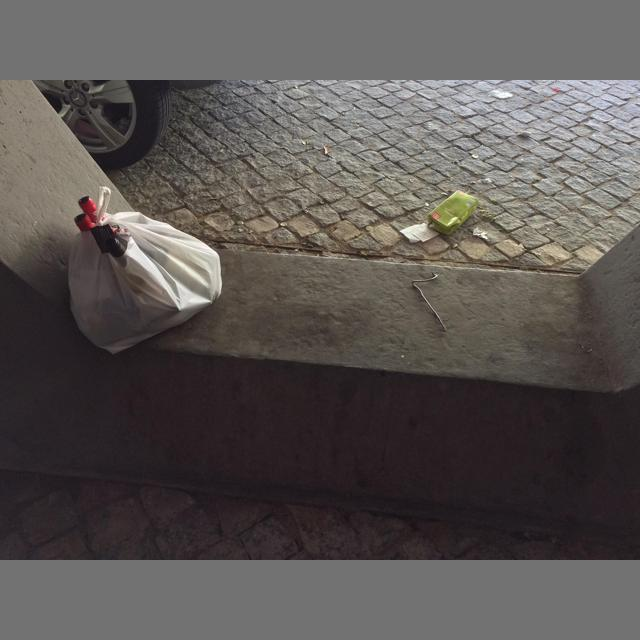litter: (69, 186, 223, 354), (428, 190, 479, 235), (412, 272, 446, 331), (399, 223, 439, 242), (90, 225, 116, 253), (78, 196, 96, 223), (105, 238, 126, 257), (74, 214, 95, 232), (473, 228, 489, 240), (517, 131, 532, 137), (365, 226, 372, 232), (280, 222, 287, 227), (236, 221, 244, 225), (552, 88, 560, 92), (455, 159, 461, 164), (302, 140, 308, 145), (472, 154, 479, 158)
